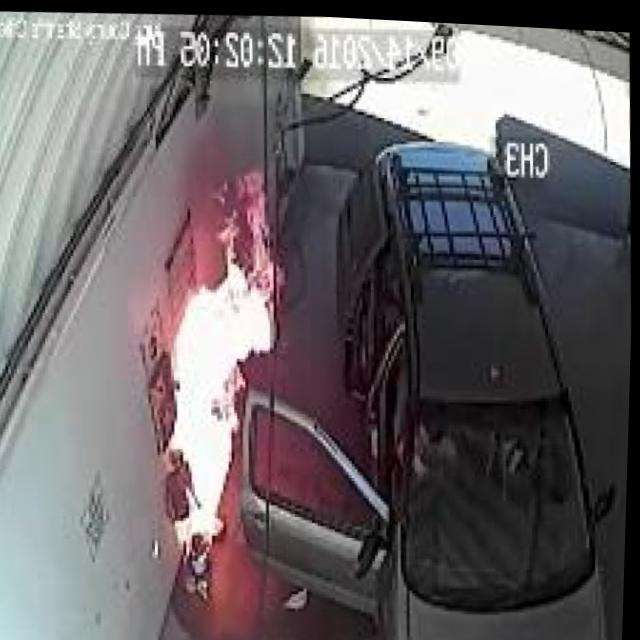fire: (142, 176, 299, 569)
